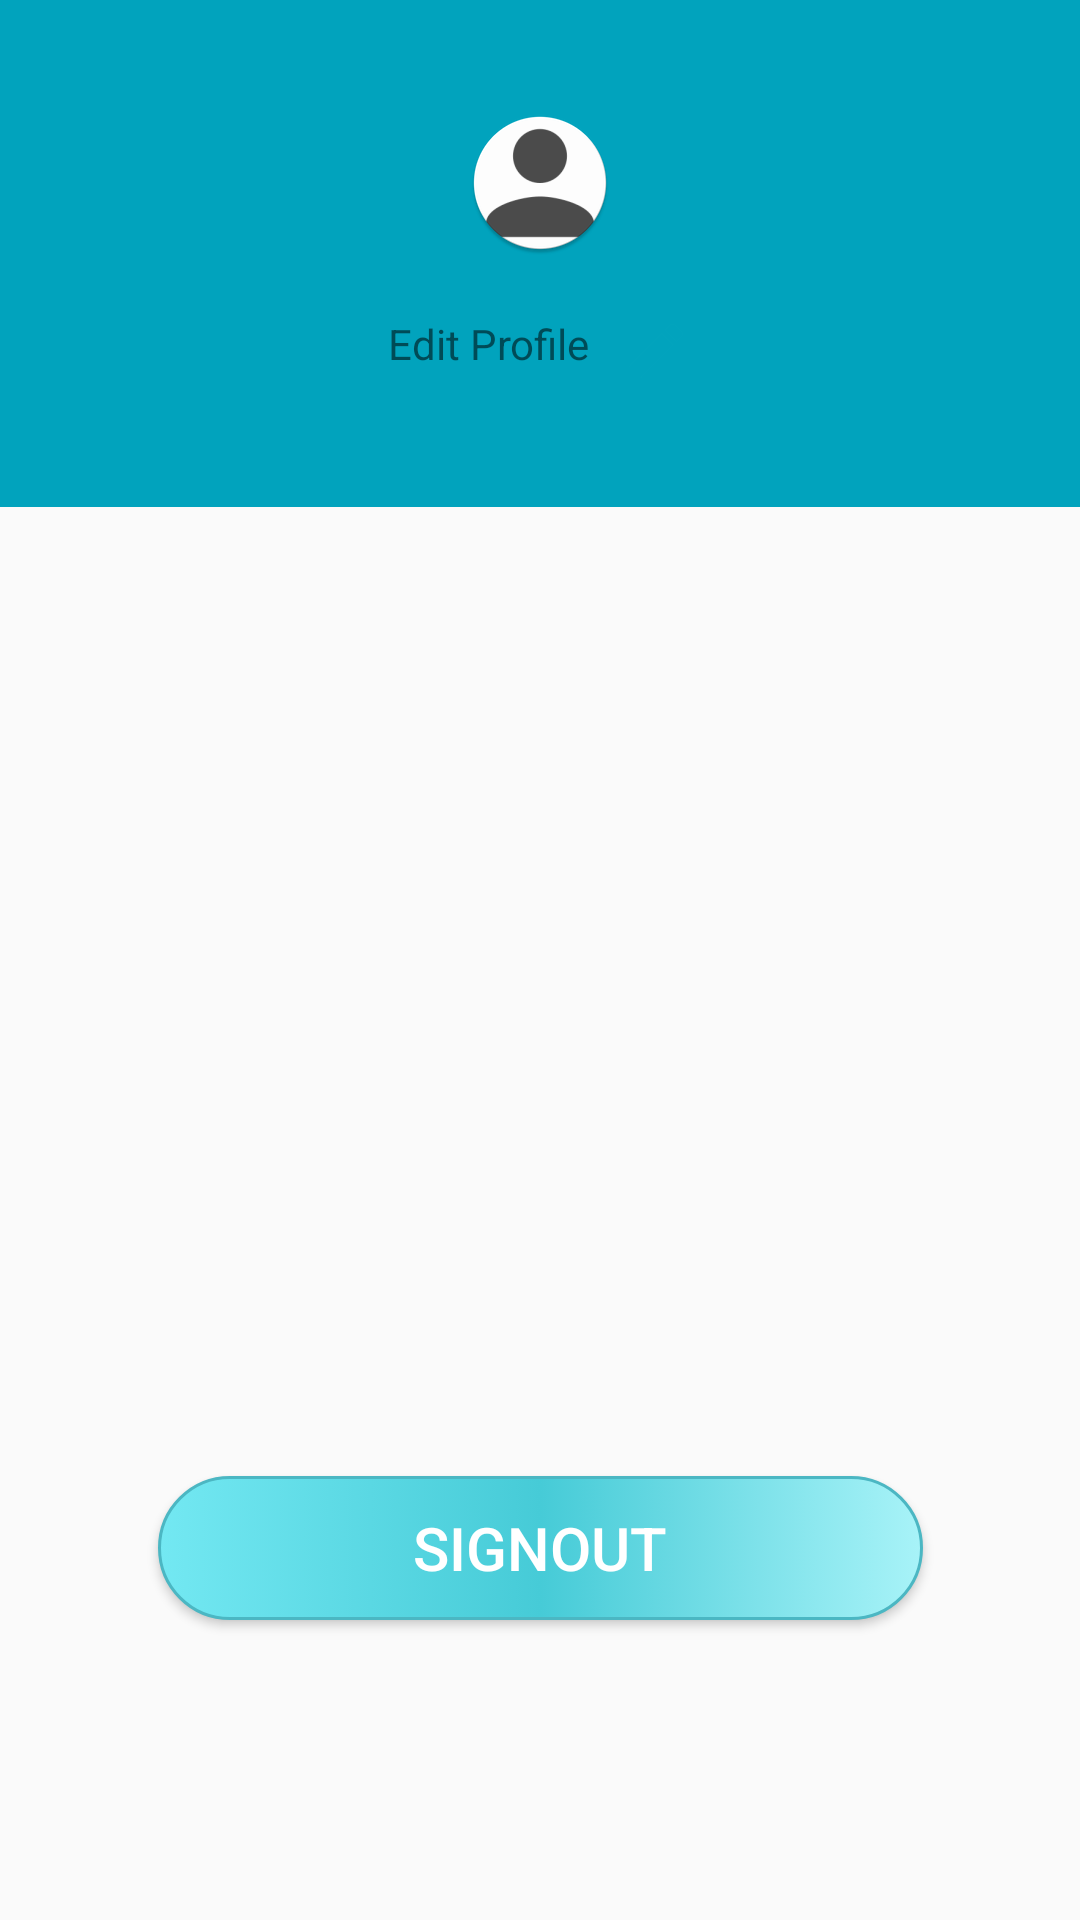

Icon bounding boxes for this 1080*1920 phone screenshot, format (x1, y1, x2, y2):
profile round: (473, 116, 607, 252)
